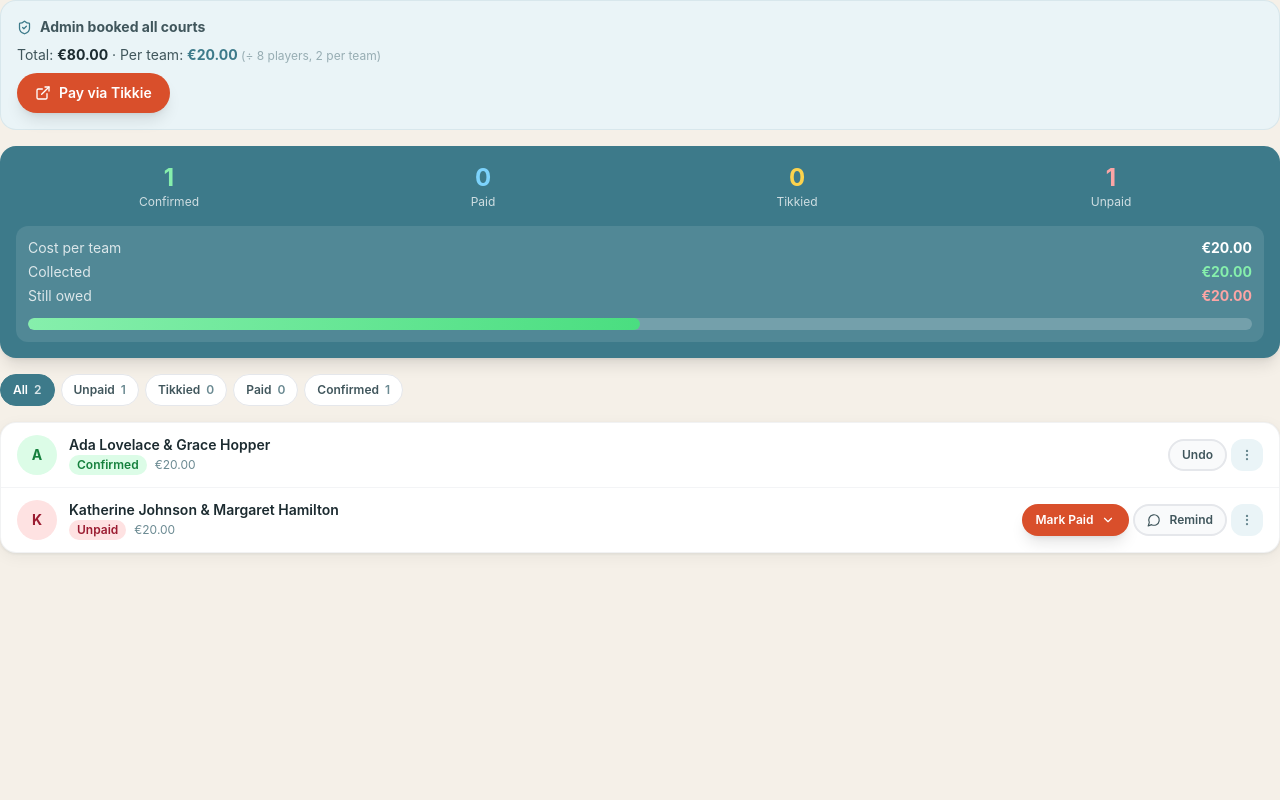
Test: Payments, team events › sends the reminder for the captain registration
Click the button "Remind". click: (1180, 520)
box: [1134,504,1227,536]
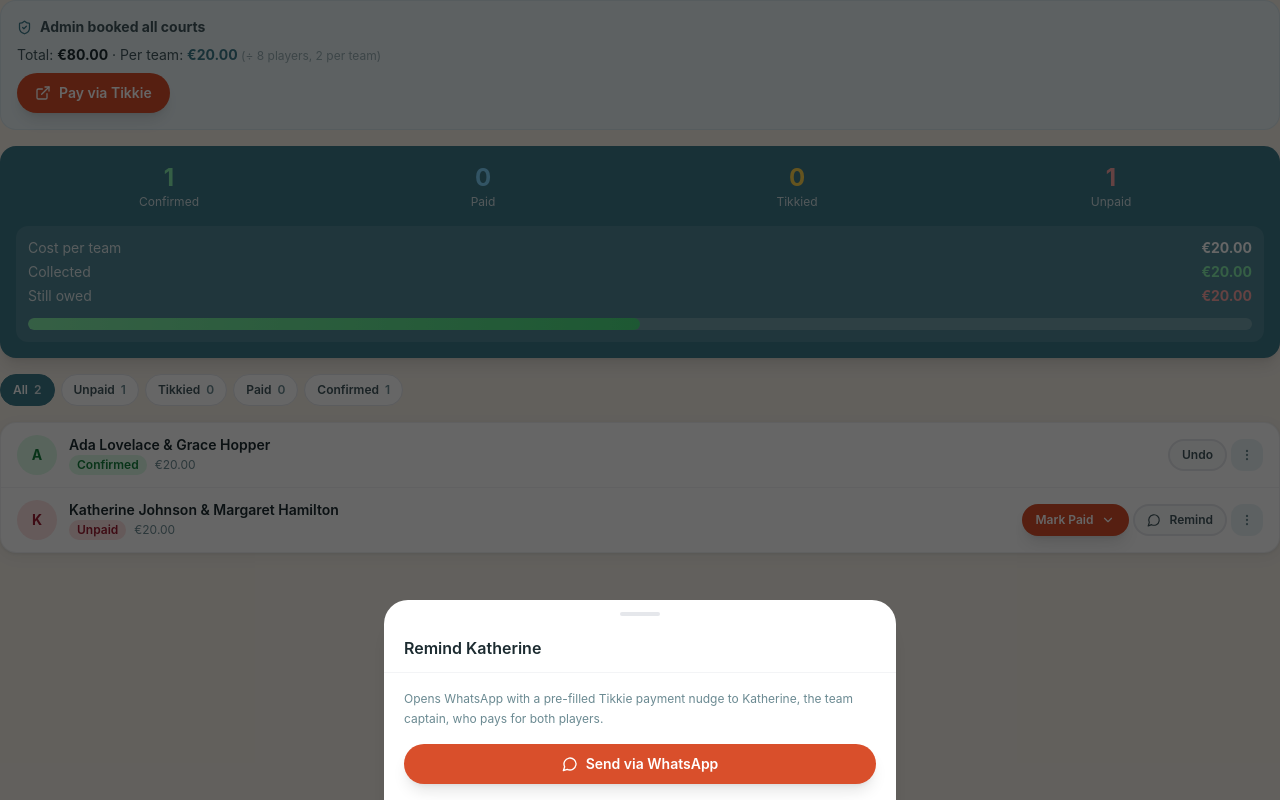
Expected: the text "the team captain" is shown, [404,691,853,726]
